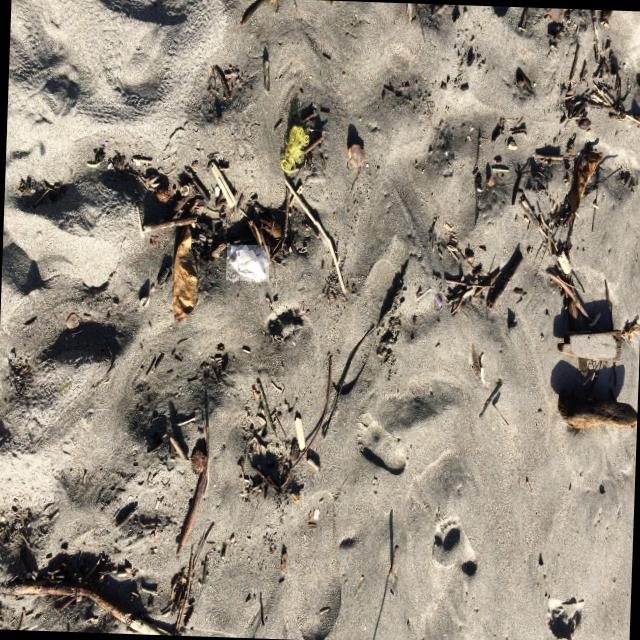Other plastic bottle: (434, 294, 441, 307)
Paper bag: (226, 245, 268, 281)
